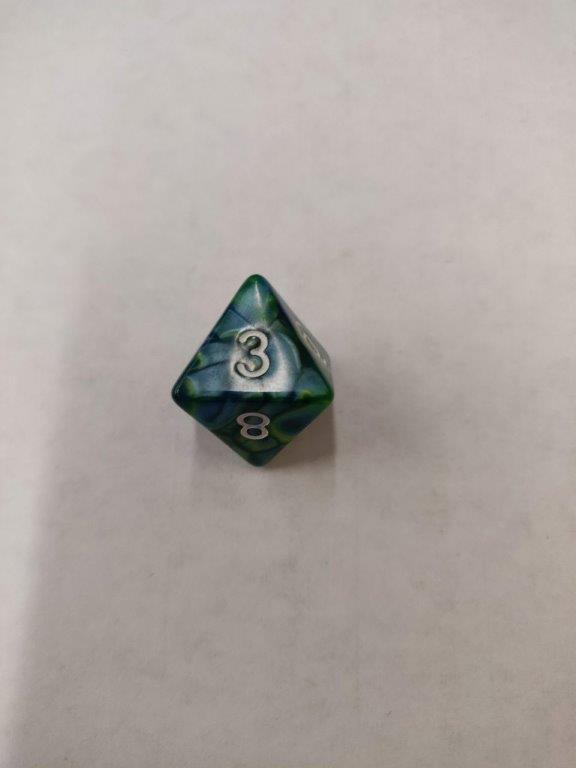d8-3: (168, 272, 335, 468)
